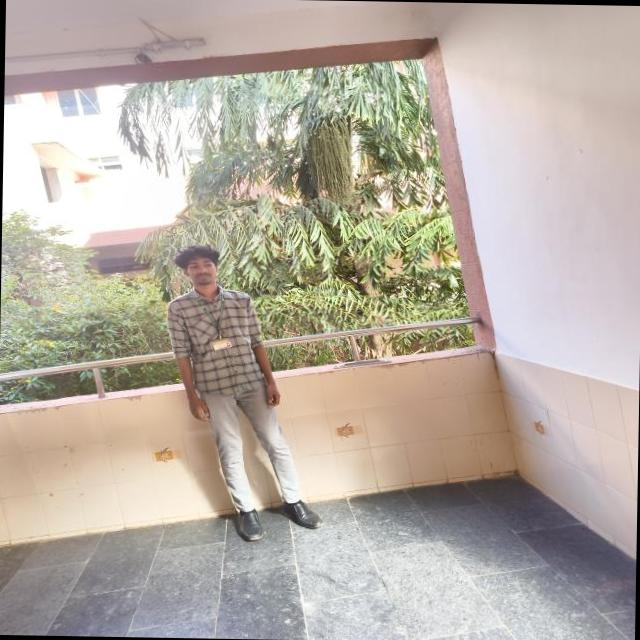id_card: (198, 293, 230, 352)
